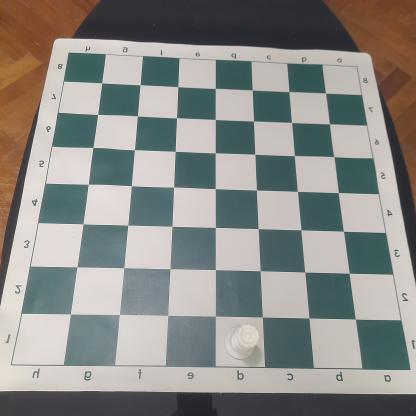white-queen: (223, 323, 261, 360)
